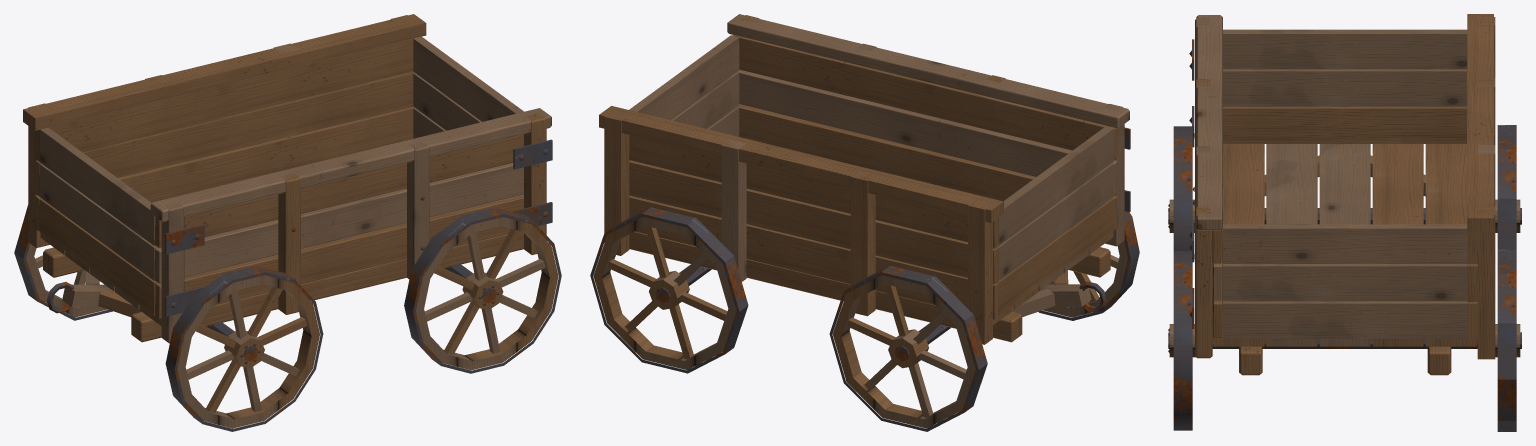
Rendered from Junk_Cart.glb.
3 renders of one model, left to right at view 1: azimuth 30°, elevation 25°; view 2: azimuth 150°, elevation 25°; view 3: azimuth 270°, elevation 25°, orthographic. The views are drawn at different scales.
Parts seen in each view (by area): view 1: Junk_Cart; view 2: Junk_Cart; view 3: Junk_Cart.
Part boxes in pixels (x1=…): Junk_Cart: x1=14, y1=14, x2=561, y2=431; Junk_Cart: x1=590, y1=14, x2=1139, y2=431; Junk_Cart: x1=1168, y1=14, x2=1521, y2=431.
Size of the model in its own units: 1.84 by 0.9122 by 1.2.
2 materials, 2 textured.
